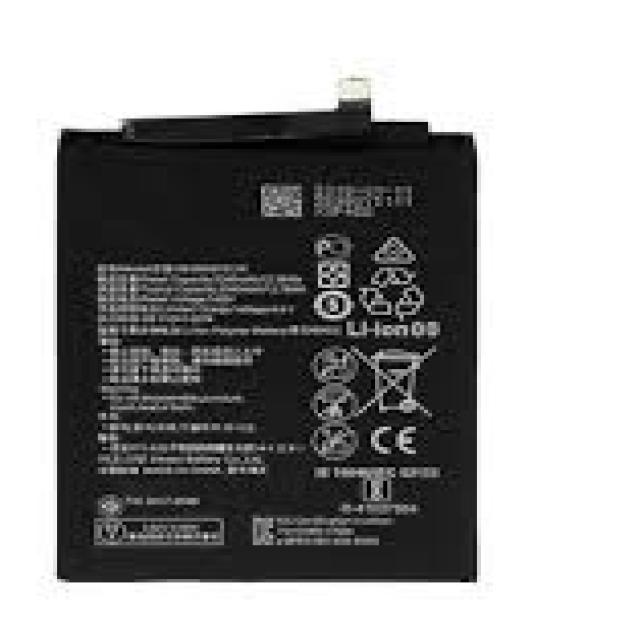organic: (58, 98, 475, 590)
